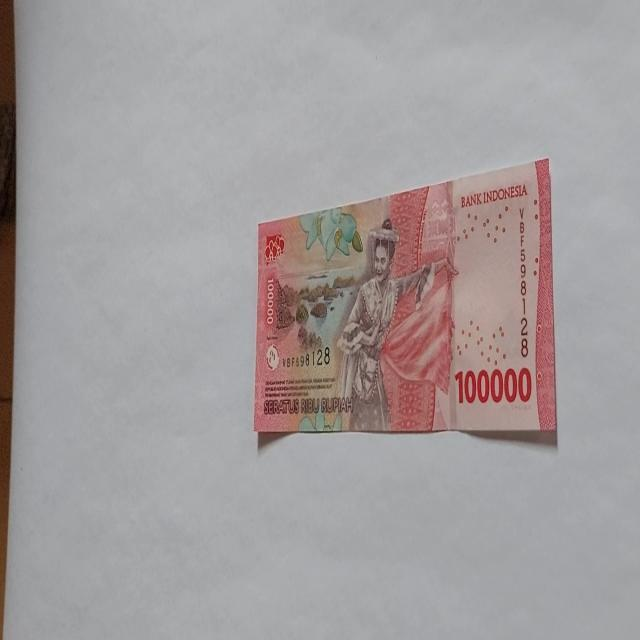seratus ribu rupiah: (253, 156, 557, 441), (335, 217, 436, 431)
